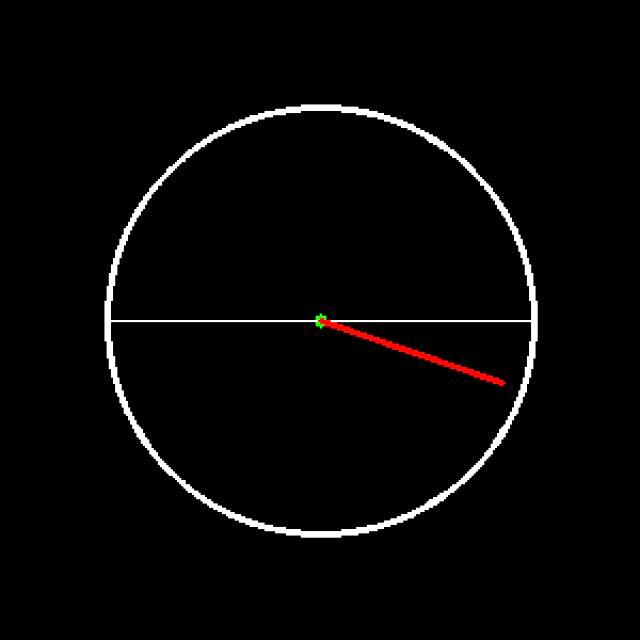Needle_Tip: (454, 351, 515, 404)
Needle_base: (290, 269, 349, 373)
